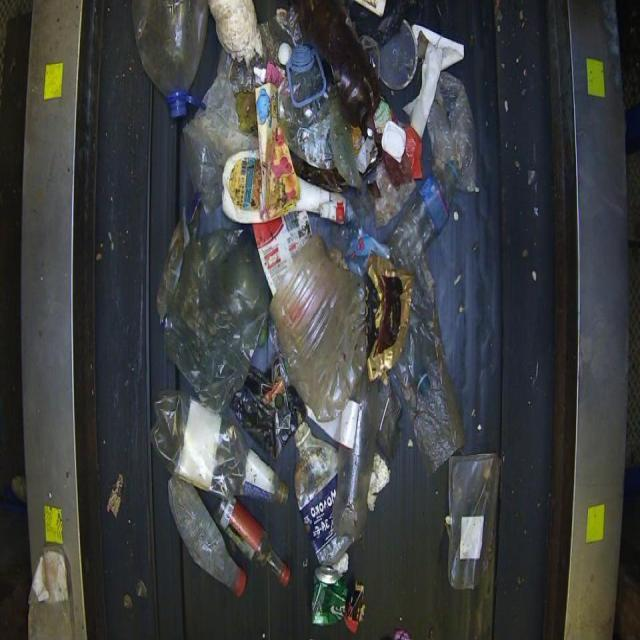E-waste: (141, 1, 485, 629)
